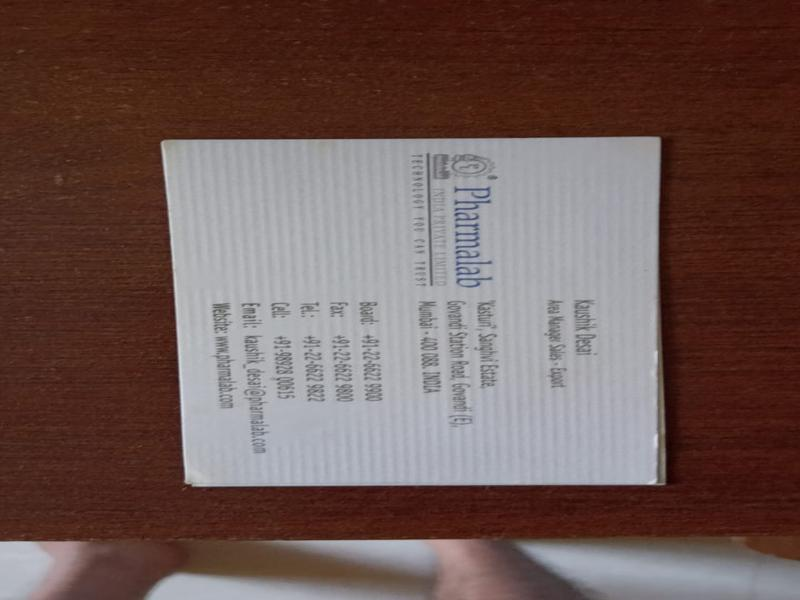card: (159, 133, 666, 492)
